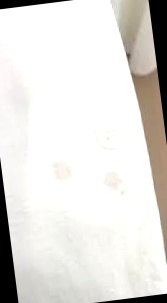wine: (101, 173, 134, 200), (49, 153, 78, 180)
